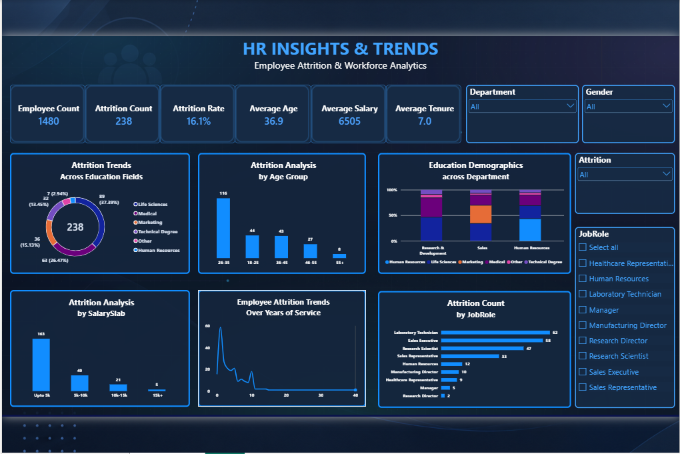

Layout of this report page (visuals, bound fields, positions):
{"tool":"powerbi","page":{"name":"Page 1","canvas":[1920,1080],"ordinal":0},"visuals":[{"type":"cardVisual","fields":{"Data":["HR_Analytics.Employee Count"]},"box":[22.7,138.9,212.6,164.4],"z":0},{"type":"cardVisual","fields":{"Data":["HR_Analytics.Attrition Count"]},"box":[235.3,138.9,212.6,164.4],"z":1000},{"type":"cardVisual","fields":{"Data":["HR_Analytics.Attrition Rate"]},"box":[447.9,138.9,212.6,164.4],"z":2000},{"type":"cardVisual","fields":{"Data":["HR_Analytics.Average Age"]},"box":[660.5,138.9,215.4,164.4],"z":3000},{"type":"cardVisual","fields":{"Data":["HR_Analytics.Average Salary"]},"box":[875.9,138.9,212.6,164.4],"z":4000},{"type":"cardVisual","fields":{"Data":["HR_Analytics.Average Tenure"]},"box":[1088.5,138.9,212.6,164.4],"z":5000},{"type":"textbox","box":[0,0,1919.1,138.9],"z":6000},{"type":"donutChart","title":"Attrition Trends","fields":{"Category":["HR_Analytics.EducationField"],"Y":["HR_Analytics.Attrition Count"]},"box":[22.7,331.7,510.2,343],"z":7000},{"type":"clusteredColumnChart","title":"Attrition Analysis","fields":{"Category":["HR_Analytics.AgeGroup"],"Y":["HR_Analytics.Attrition Count"]},"box":[555.6,331.7,476.2,343],"z":8000},{"type":"hundredPercentStackedColumnChart","title":"Education Demographics","fields":{"Category":["HR_Analytics.Department"],"Series":["HR_Analytics.EducationField"],"Y":["HR_Analytics.Employee Count"]},"box":[1065.8,331.7,547.1,343],"z":9000},{"type":"clusteredColumnChart","title":"Attrition Analysis","fields":{"Category":["HR_Analytics.SalarySlab"],"Y":["HR_Analytics.Attrition Count"]},"box":[22.7,720,510.2,331.7],"z":10000},{"type":"lineChart","title":"Employee Attrition Trends","fields":{"Category":["HR_Analytics.YearsAtCompany"],"Y":["HR_Analytics.Attrition Count"]},"box":[555.6,720,476.2,331.7],"z":11000},{"type":"clusteredBarChart","title":"Attrition Count","fields":{"Category":["HR_Analytics.JobRole"],"Y":["HR_Analytics.Attrition Count"]},"box":[1065.8,722.8,547.1,331.7],"z":12000},{"type":"slicer","fields":{"Values":["HR_Analytics.Department"]},"box":[1315.3,138.9,320.3,164.4],"z":12001},{"type":"slicer","fields":{"Values":["HR_Analytics.Gender"]},"box":[1644.1,138.9,263.6,164.4],"z":12002},{"type":"slicer","fields":{"Values":["HR_Analytics.JobRole"]},"box":[1624.3,541.4,283.5,513.1],"z":12003},{"type":"slicer","fields":{"Values":["HR_Analytics.Attrition"]},"box":[1624.3,331.7,283.5,172.9],"z":12004}]}

Visuals, with their boxes on the page's 1920x1080 design canvas (x1, y1, x2, y2). These are canvas units, not pixel positions in the 680x454 screenshot, which may show the page scaled, cropped or inside an application window:
cardVisual - HR_Analytics.Employee Count: {"left": 23, "top": 139, "right": 235, "bottom": 303}
cardVisual - HR_Analytics.Attrition Count: {"left": 235, "top": 139, "right": 448, "bottom": 303}
cardVisual - HR_Analytics.Attrition Rate: {"left": 448, "top": 139, "right": 660, "bottom": 303}
cardVisual - HR_Analytics.Average Age: {"left": 660, "top": 139, "right": 876, "bottom": 303}
cardVisual - HR_Analytics.Average Salary: {"left": 876, "top": 139, "right": 1088, "bottom": 303}
cardVisual - HR_Analytics.Average Tenure: {"left": 1088, "top": 139, "right": 1301, "bottom": 303}
textbox: {"left": 0, "top": 0, "right": 1919, "bottom": 139}
"Attrition Trends" donutChart: {"left": 23, "top": 332, "right": 533, "bottom": 675}
"Attrition Analysis" clusteredColumnChart: {"left": 556, "top": 332, "right": 1032, "bottom": 675}
"Education Demographics" hundredPercentStackedColumnChart: {"left": 1066, "top": 332, "right": 1613, "bottom": 675}
"Attrition Analysis" clusteredColumnChart: {"left": 23, "top": 720, "right": 533, "bottom": 1052}
"Employee Attrition Trends" lineChart: {"left": 556, "top": 720, "right": 1032, "bottom": 1052}
"Attrition Count" clusteredBarChart: {"left": 1066, "top": 723, "right": 1613, "bottom": 1054}
slicer - HR_Analytics.Department: {"left": 1315, "top": 139, "right": 1636, "bottom": 303}
slicer - HR_Analytics.Gender: {"left": 1644, "top": 139, "right": 1908, "bottom": 303}
slicer - HR_Analytics.JobRole: {"left": 1624, "top": 541, "right": 1908, "bottom": 1054}
slicer - HR_Analytics.Attrition: {"left": 1624, "top": 332, "right": 1908, "bottom": 505}
